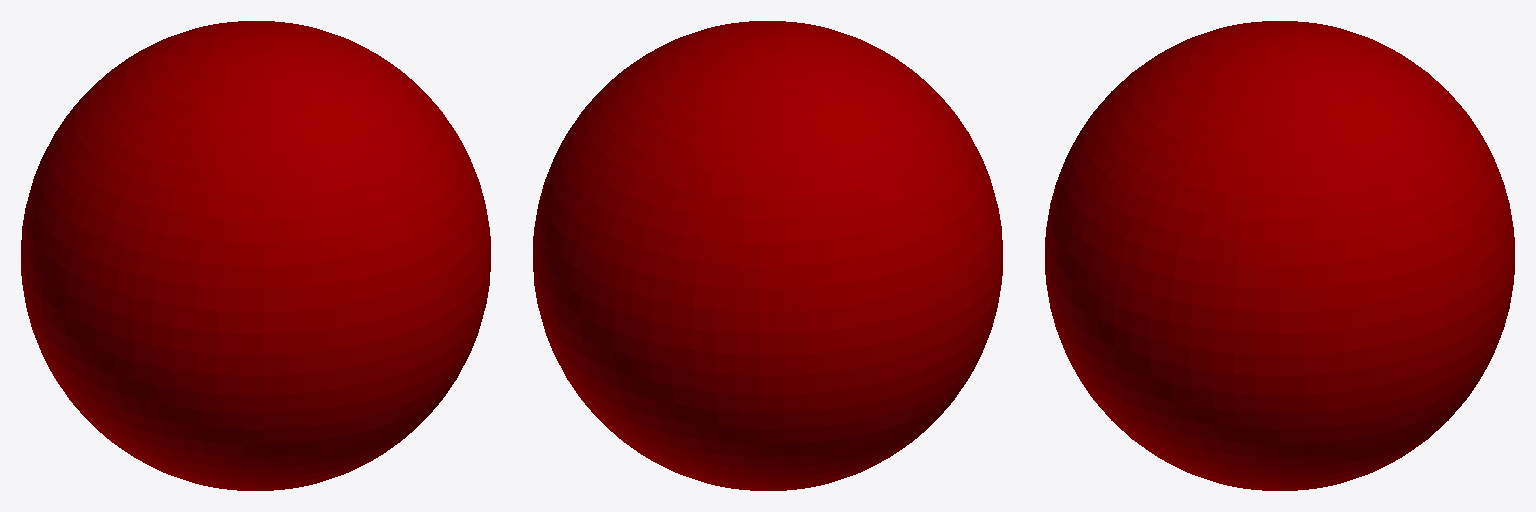
File: spheres.obj
3 views of the same model, side by side, from view 1: azimuth 30°, elevation 25°; view 2: azimuth 150°, elevation 25°; view 3: azimuth 270°, elevation 25° (orthographic).
Visible parts, largest first — view 1: Sphere; view 2: Sphere; view 3: Sphere.
Part boxes in pixels (x1,y1,x2,y2): Sphere: (21,21,490,490); Sphere: (533,21,1002,490); Sphere: (1045,21,1514,490).
Size of the model in its own units: 2 by 2 by 2.